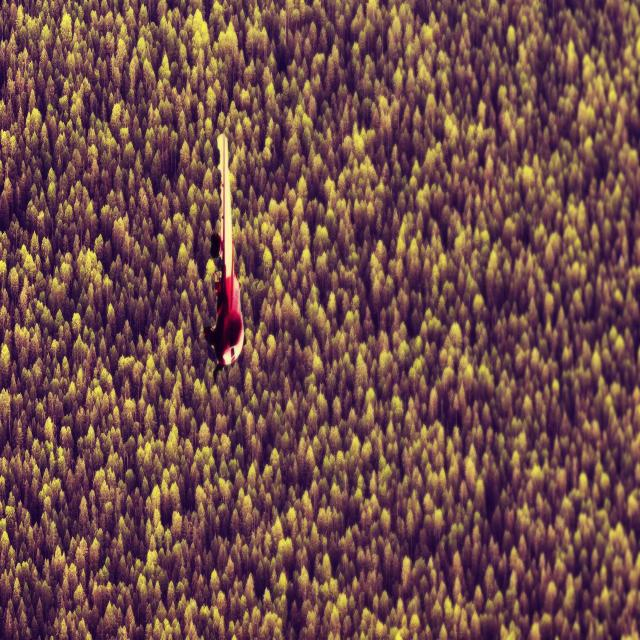airplane: (202, 132, 245, 368)
